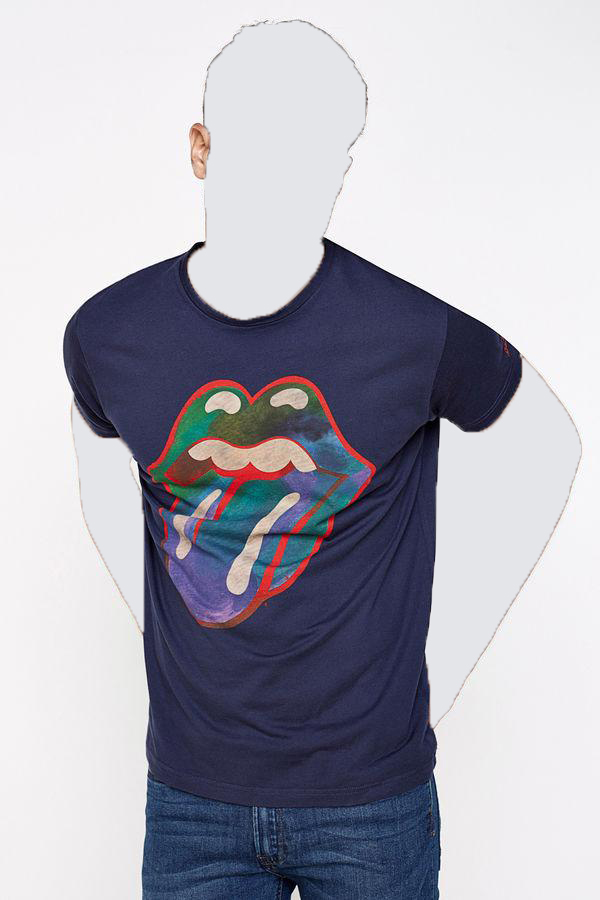teeshirt: (46, 234, 531, 807)
